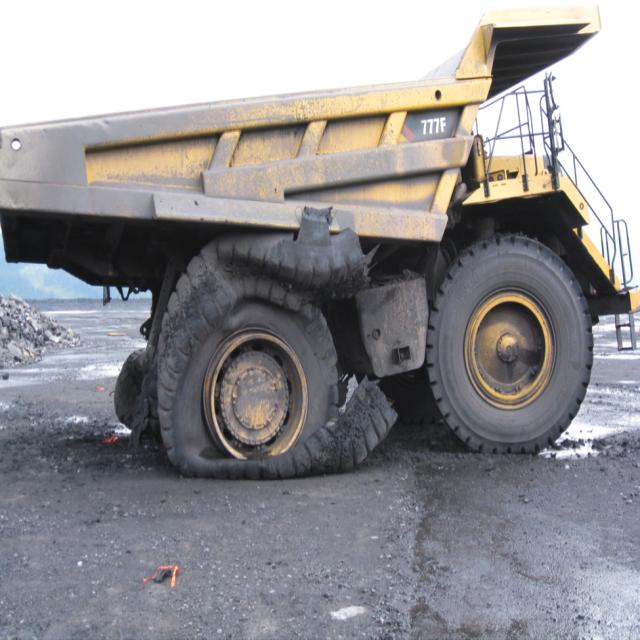dump_truck: (12, 12, 620, 481)
